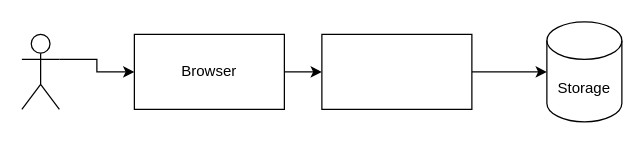
This 644x158 diagram has some shape labels left out. Each missing label, with the box of its shape:
Our Application: (321, 33, 472, 109)
User: (21, 33, 59, 109)
